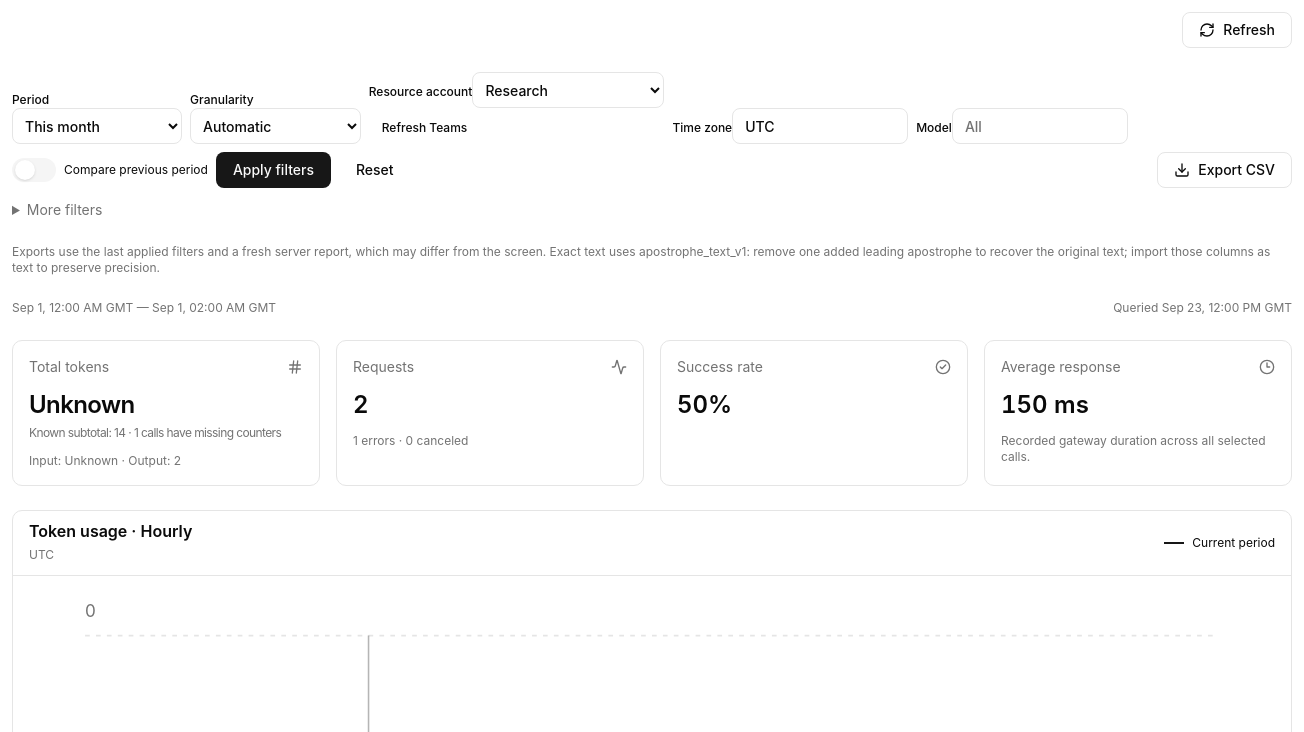
Test: member Team aggregate usage › hides facts on scoped Team-list authorization loss without reading global directories
Expected: the dropdown named "Resource account" is shown, x1=472 y1=72 x2=664 y2=108
Click the button "Refresh Teams" at (425, 128), box x1=369 y1=112 x2=480 y2=144
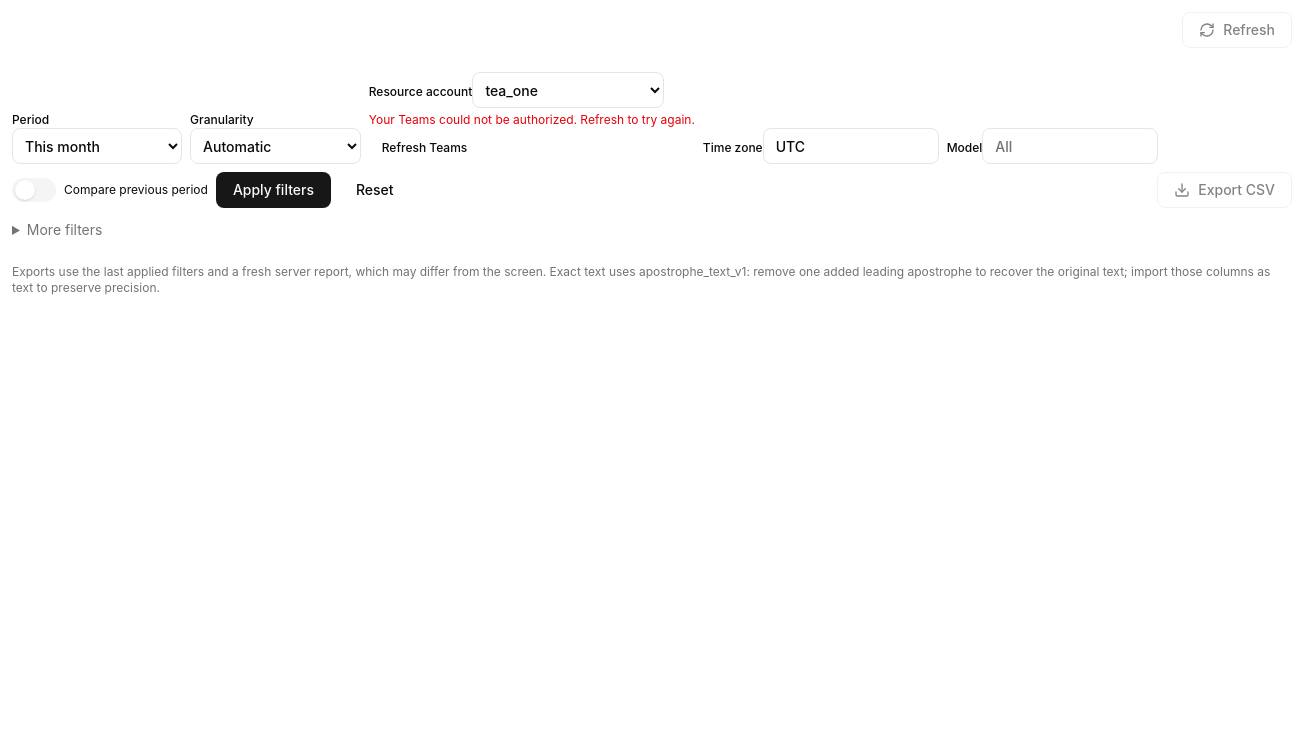
Expected: the text "could not be authorized" is shown, x1=369 y1=112 x2=695 y2=127
